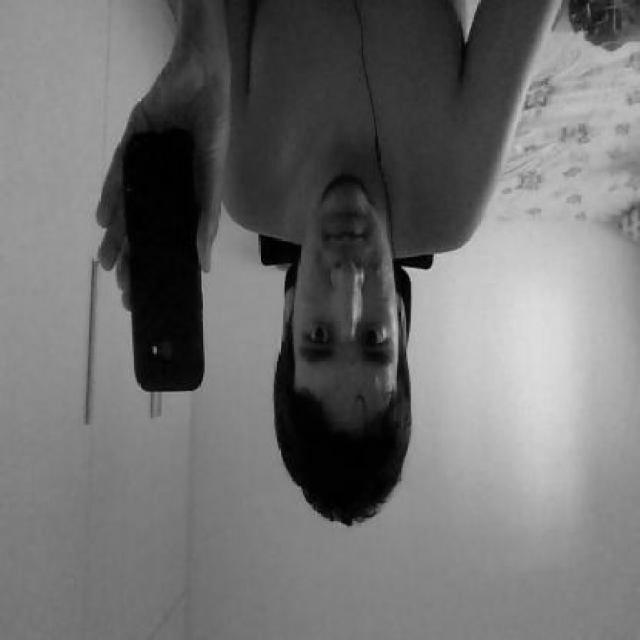fake: (123, 138, 206, 396)
real: (292, 174, 404, 425)
